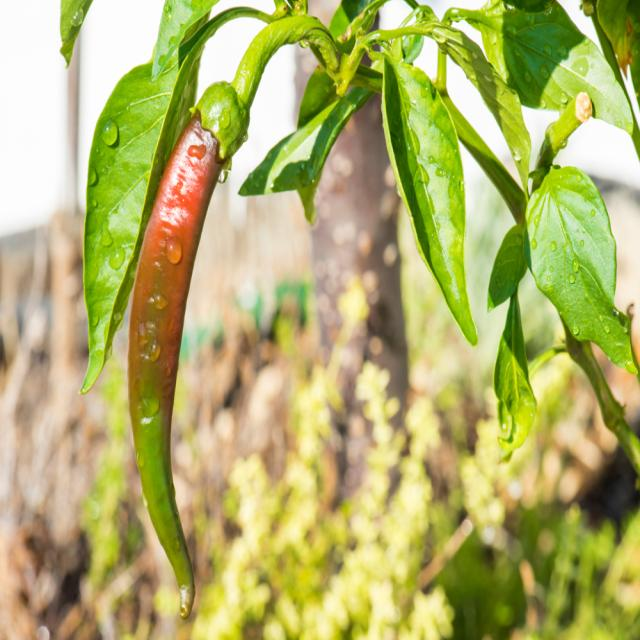Half-Ripe: (128, 112, 225, 616)
